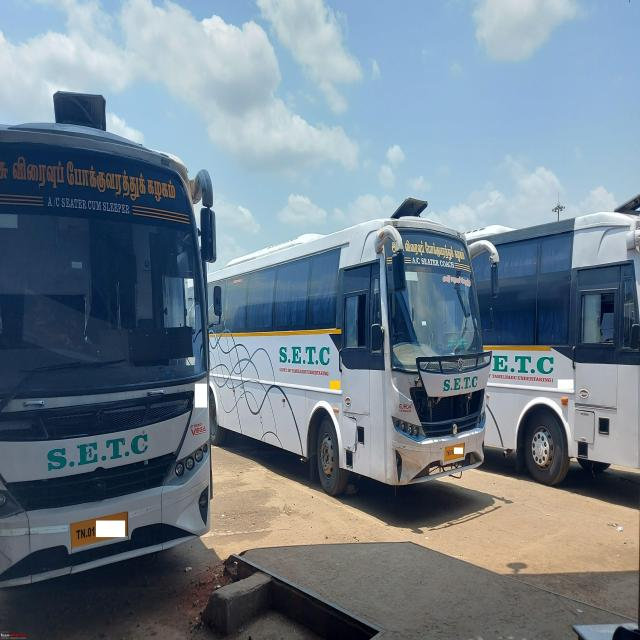bus: (0, 95, 215, 592), (209, 201, 488, 493), (469, 211, 640, 487)
